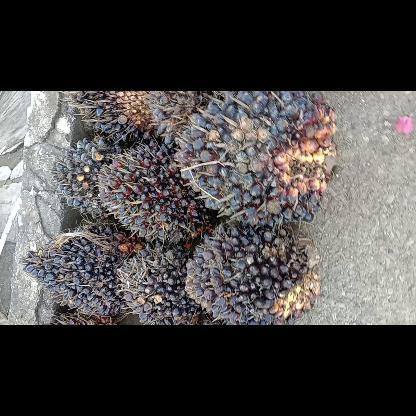TBS mentah: (170, 91, 346, 229), (183, 218, 323, 324), (96, 138, 220, 244), (18, 219, 148, 319), (113, 238, 216, 324), (49, 134, 127, 221), (59, 91, 167, 145)
